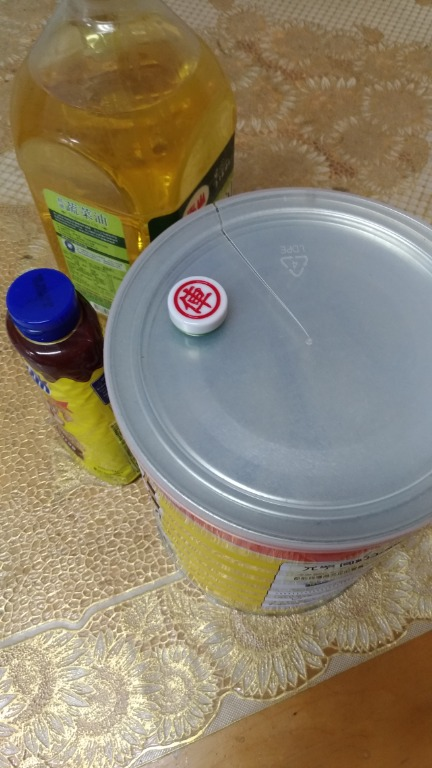r-rook: (162, 273, 258, 340)
